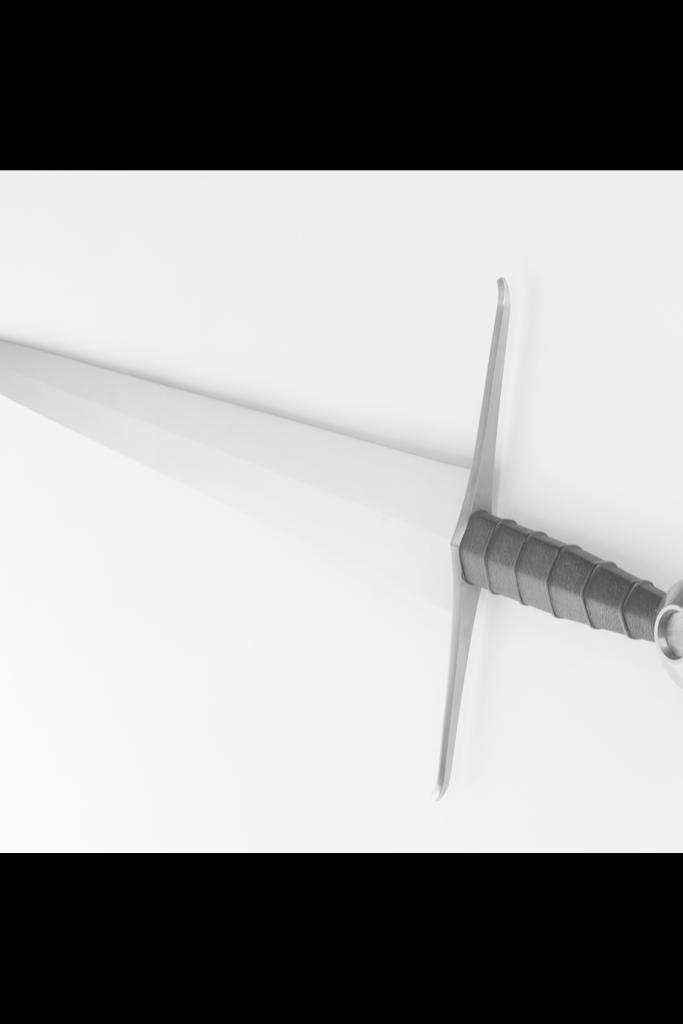melee: (0, 277, 683, 809)
